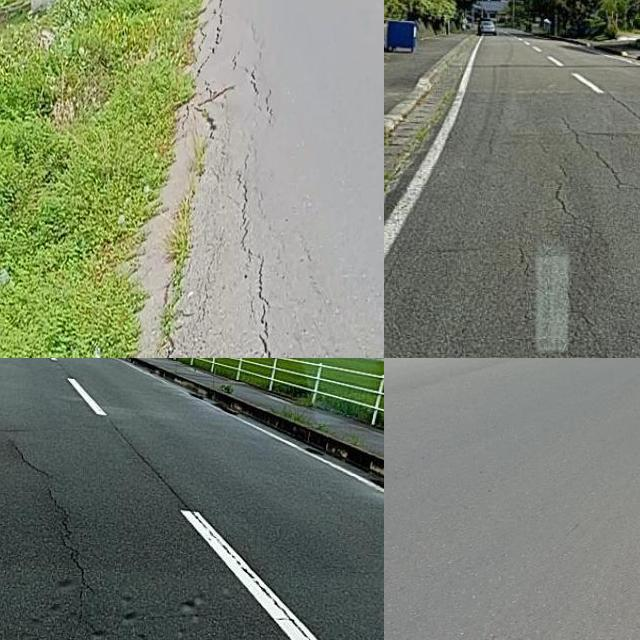Memanjang: (1, 435, 108, 640), (242, 239, 298, 358), (552, 115, 633, 193)
Pinggir: (69, 0, 260, 358)
